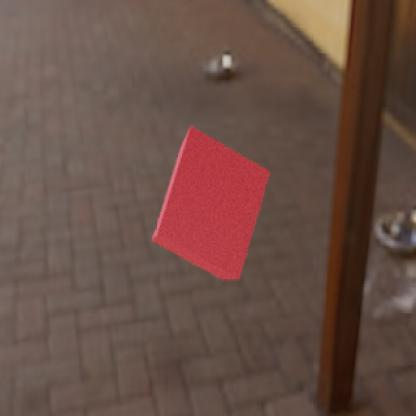cube: (150, 125, 270, 279)
